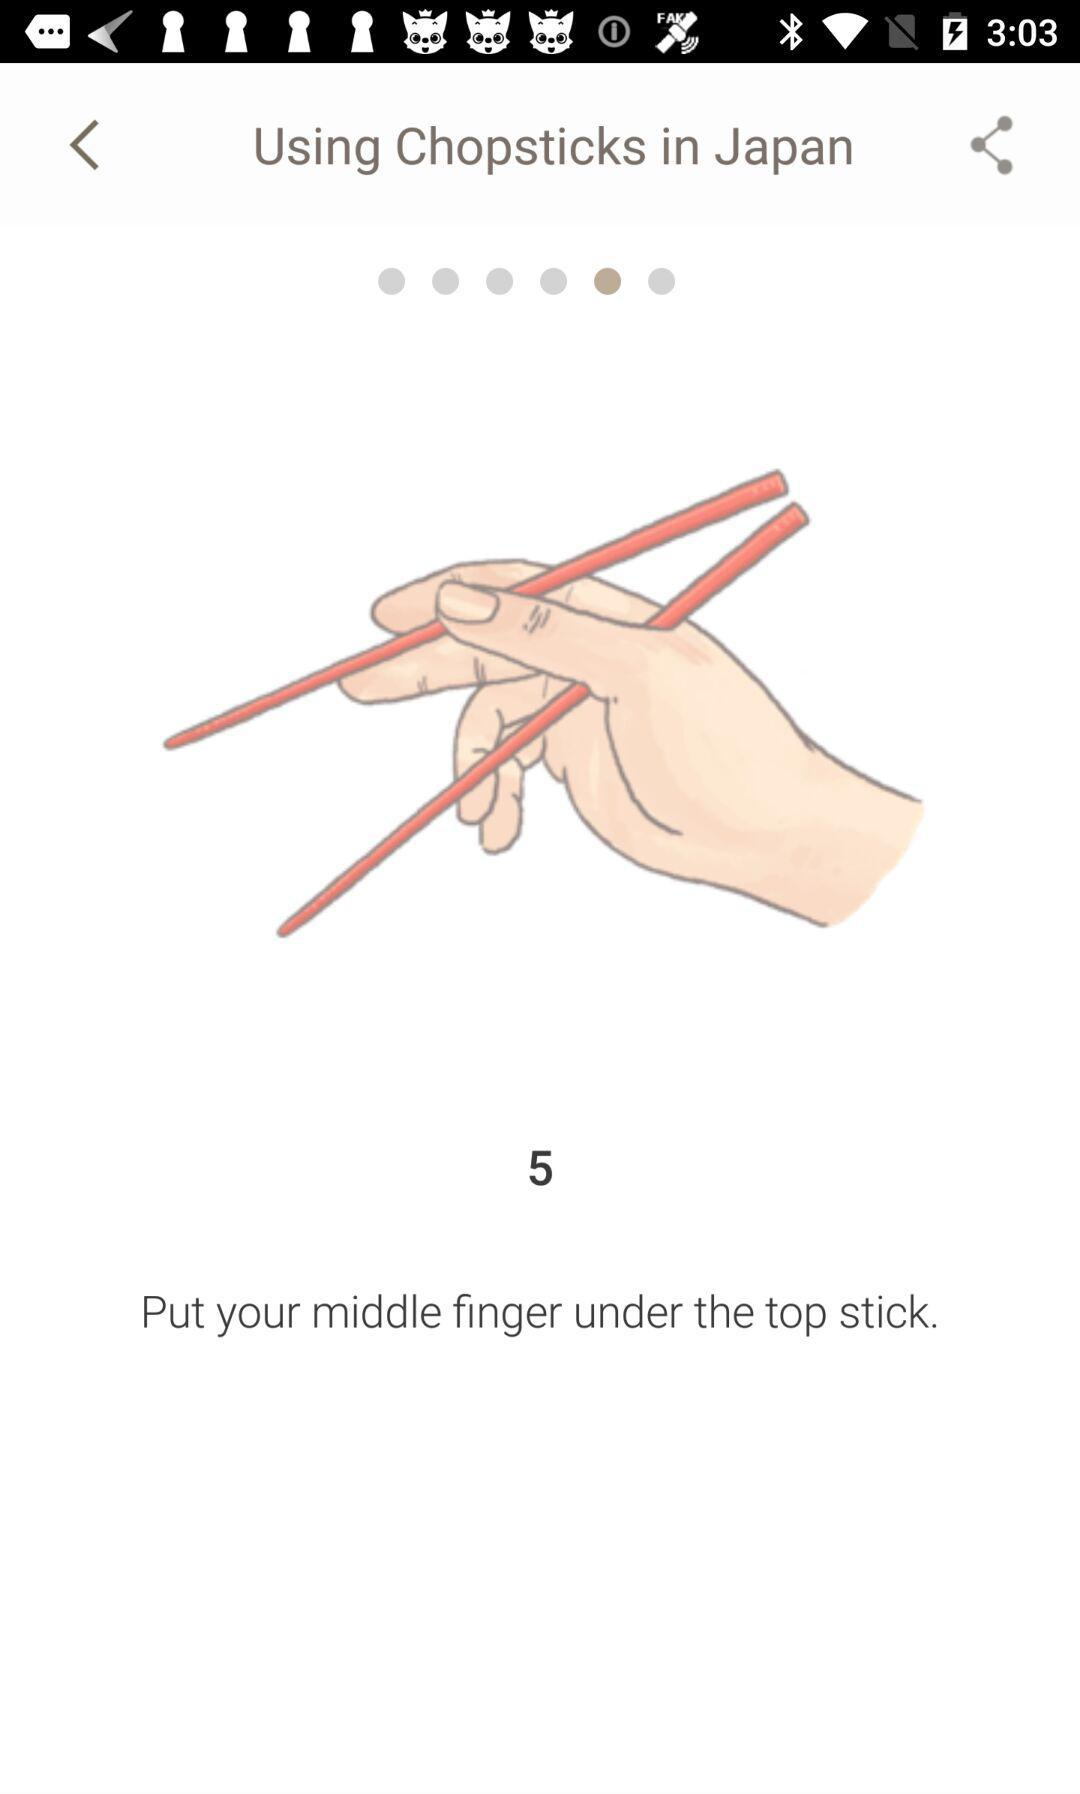Icon: (969, 115, 1015, 178), (69, 119, 102, 173)
Image: (164, 468, 924, 930)
PageIndicator: (377, 267, 676, 297)
Text: (143, 1290, 938, 1339), (254, 126, 853, 177), (528, 1149, 555, 1187)
UpperTaskBar: (1, 1, 1080, 64)
